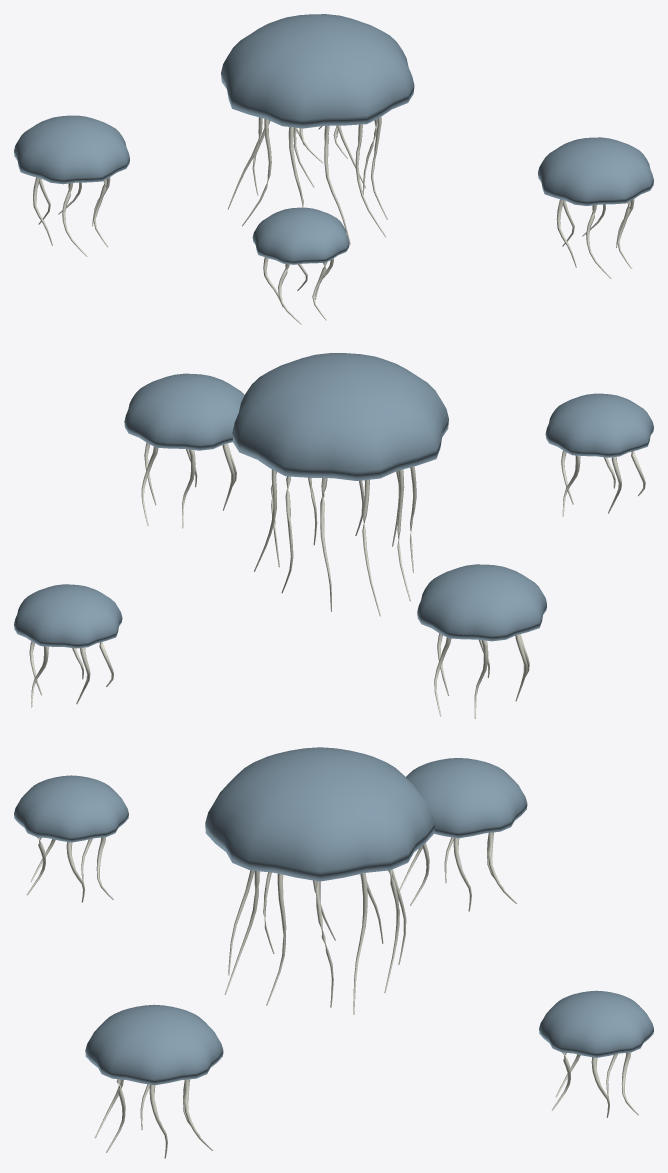
The model's file is JellyfishBloom.glb.
The picture shows the model from 3 angles, top to bottom: view 1: azimuth 30°, elevation 25°; view 2: azimuth 150°, elevation 25°; view 3: azimuth 270°, elevation 25°; orthographic projection. The views are drawn at different scales.
Visible parts, largest first — view 1: jellyfish-bloom; view 2: jellyfish-bloom; view 3: jellyfish-bloom.
Boxes of the visible parts, bbox=[...] form: jellyfish-bloom: bbox=[14, 14, 653, 324]; jellyfish-bloom: bbox=[14, 353, 653, 718]; jellyfish-bloom: bbox=[14, 747, 653, 1158].
Size of the model in its own units: 3 by 1.37 by 2.9.
